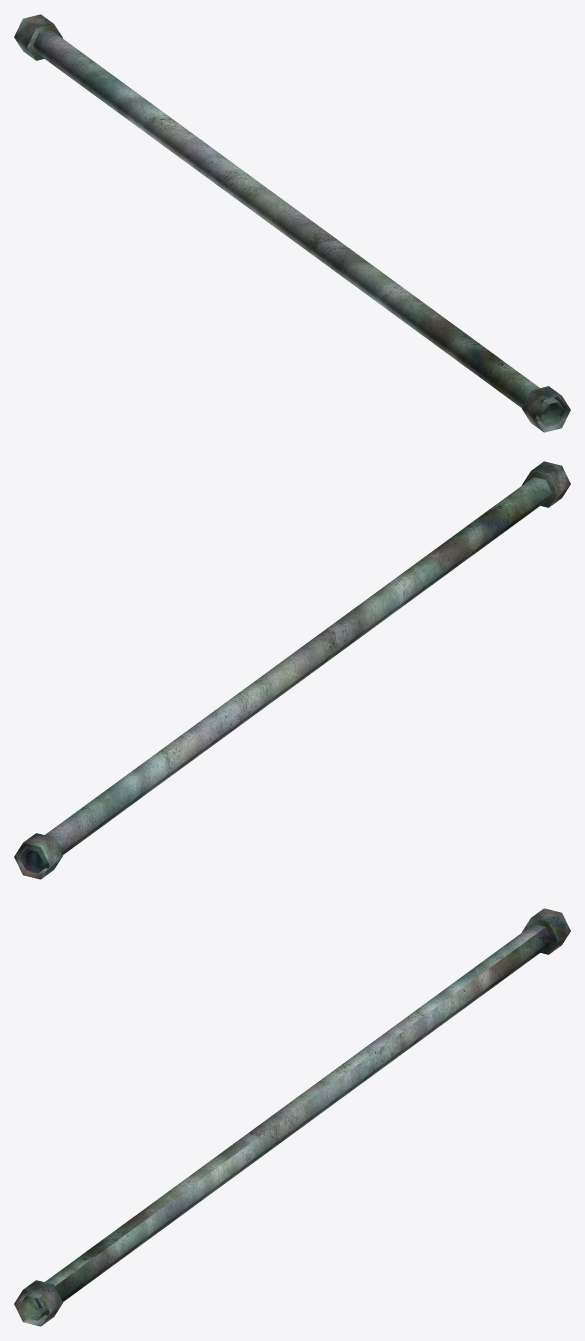
Rendered from curtain_rail.DAE.
3 renders of one model, top to bottom at view 1: azimuth 30°, elevation 25°; view 2: azimuth 150°, elevation 25°; view 3: azimuth 330°, elevation 25°, orthographic.
Parts seen in each view (by area): view 1: curtain_rail; view 2: curtain_rail; view 3: curtain_rail.
Boxes of the visible parts, x1,y1,x2,y2 form: curtain_rail: (14,14,570,432); curtain_rail: (14,461,570,879); curtain_rail: (14,908,570,1326).
Size of the model in its own units: 0.0795 by 0.0688 by 2.
